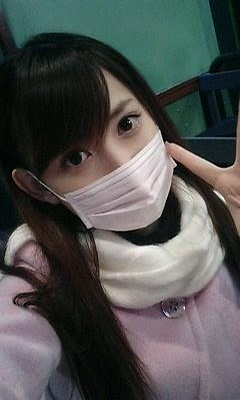face_mask: (47, 55, 170, 226)
